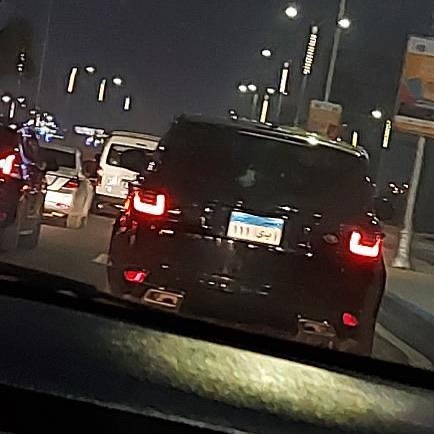carpl: (220, 209, 290, 247)
